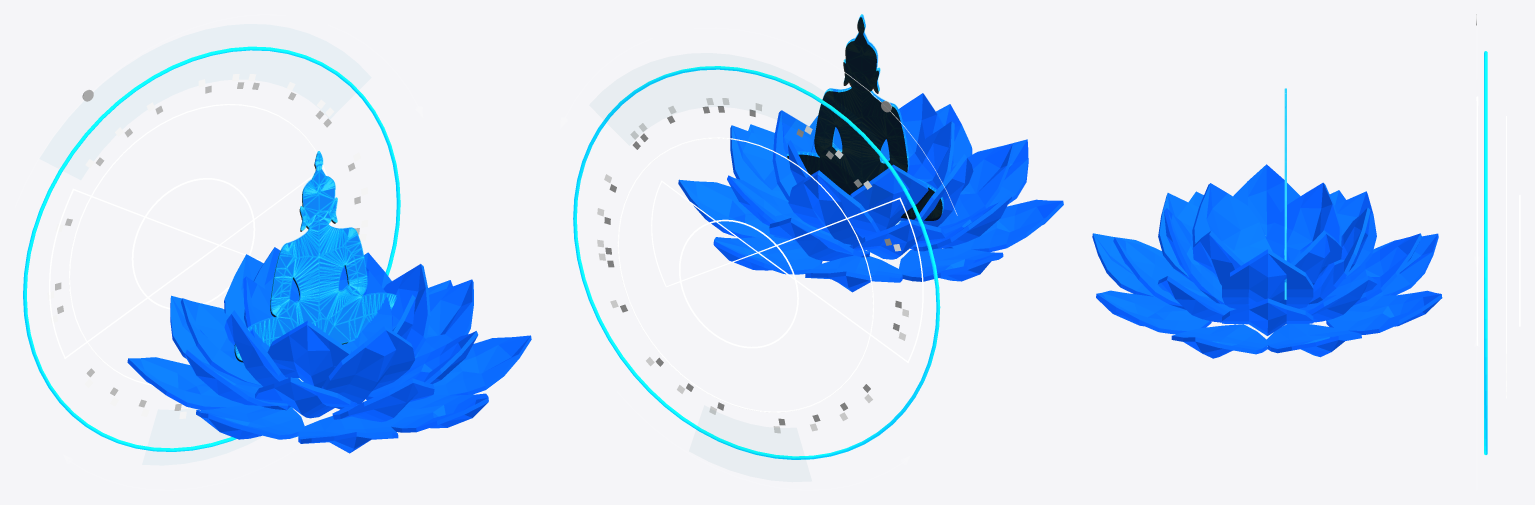
File: buddha.gltf
3 renders of one model, left to right at view 1: azimuth 30°, elevation 25°; view 2: azimuth 150°, elevation 25°; view 3: azimuth 270°, elevation 25°, orthographic. The views are drawn at different scales.
Visible parts, largest first — view 1: Lotos, Budda, BuddaSet, Circle.3, Kvadrati1, Tryyngol1, Circle.2, Kvadrati, Circle.1; view 2: Lotos, BuddaShad, Circle.3, Circle.2, Kvadrati1, Kvadrati, Tryyngol1, Circle.1, Budda, BuddaSet, Tryyngol2; view 3: Lotos, Circle.3, BuddaSet.
Boxes of the visible parts, x1,y1,x2,y2 form: Lotos: (127,247,531,453); Budda: (235,152,396,360); BuddaSet: (235,151,396,360); Circle.3: (23,46,400,451); Kvadrati1: (47,74,368,418); Tryyngol1: (49,188,219,358); Circle.2: (69,104,332,385); Kvadrati: (55,82,360,410); Circle.1: (131,178,255,309); Lotos: (678,93,1063,292); BuddaShad: (787,17,942,220); Circle.3: (573,66,940,459); Circle.2: (617,137,873,412); Kvadrati1: (597,98,908,433); Kvadrati: (604,106,901,425); Tryyngol1: (757,197,923,362); Circle.1: (679,219,798,348); Budda: (787,15,943,212); BuddaSet: (787,14,943,212); Tryyngol2: (651,180,757,287); Lotos: (1092,164,1442,358); Circle.3: (1484,51,1487,454); BuddaSet: (1284,88,1286,299).
Size of the model in its own units: 31.17 by 33.82 by 30.45.
